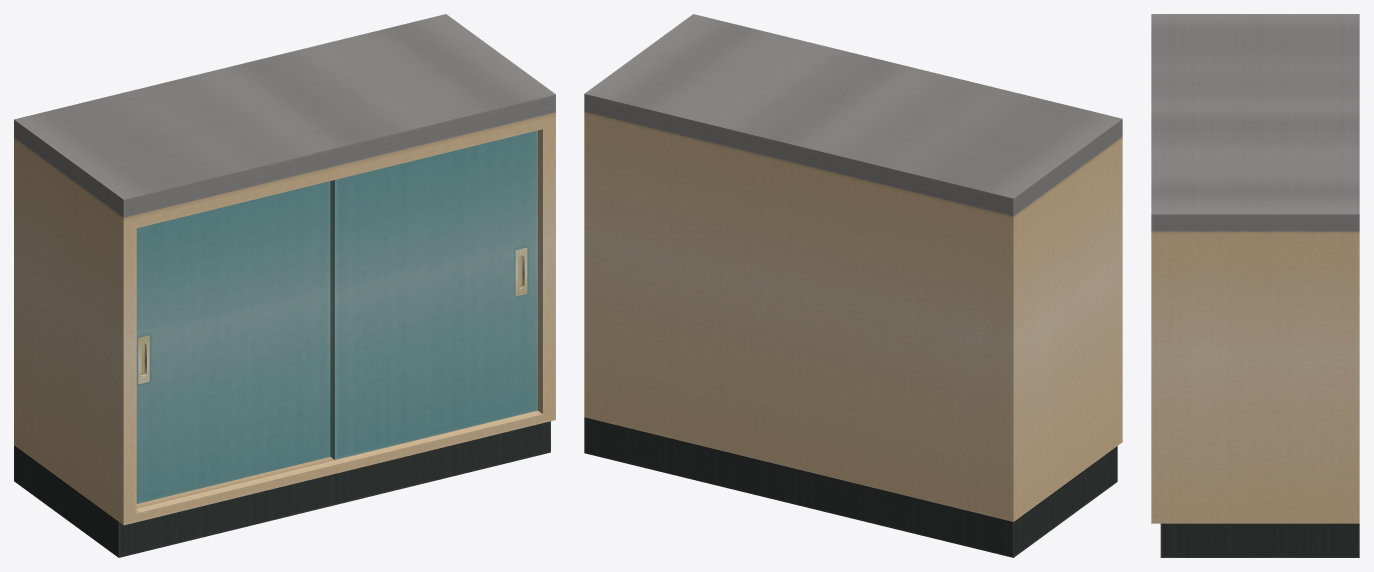
Rendered from KR_Rack_02_01.fbx.
The picture shows the model from 3 angles, left to right: view 1: azimuth 30°, elevation 25°; view 2: azimuth 150°, elevation 25°; view 3: azimuth 270°, elevation 25°; orthographic projection. The views are drawn at different scales.
Parts seen in each view (by area): view 1: rack_02_01, door01_R1, door01_L1; view 2: rack_02_01; view 3: rack_02_01.
Boxes of the visible parts, x1,y1,x2,y2 form: rack_02_01: (14,14,555,557); door01_R1: (330,130,537,459); door01_L1: (136,181,330,503); rack_02_01: (584,14,1122,557); rack_02_01: (1151,14,1359,557).
Size of the model in its own units: 100 by 80 by 44.
